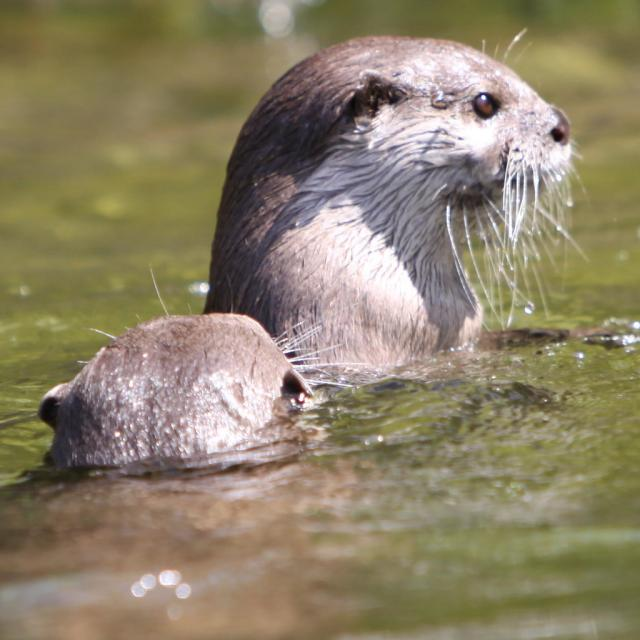otter: (205, 36, 574, 371), (39, 313, 314, 471)
